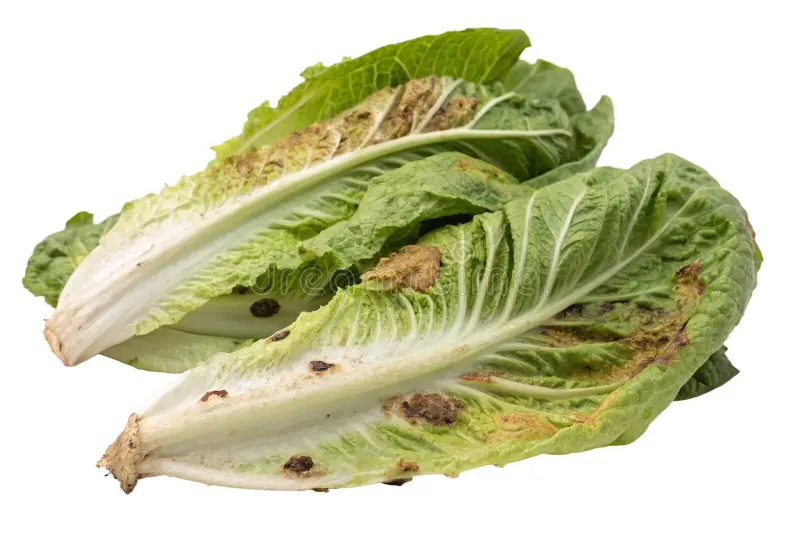lettuce rotten: (30, 6, 731, 484)
